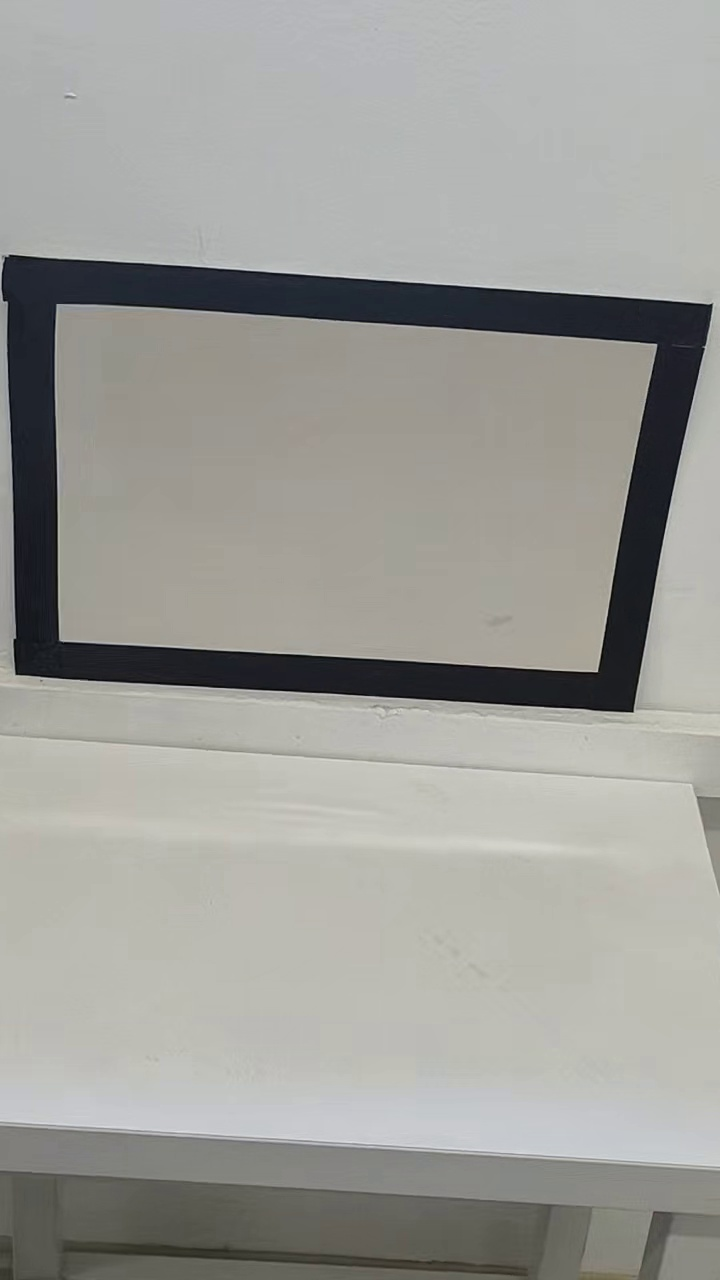board: (9, 258, 709, 714)
